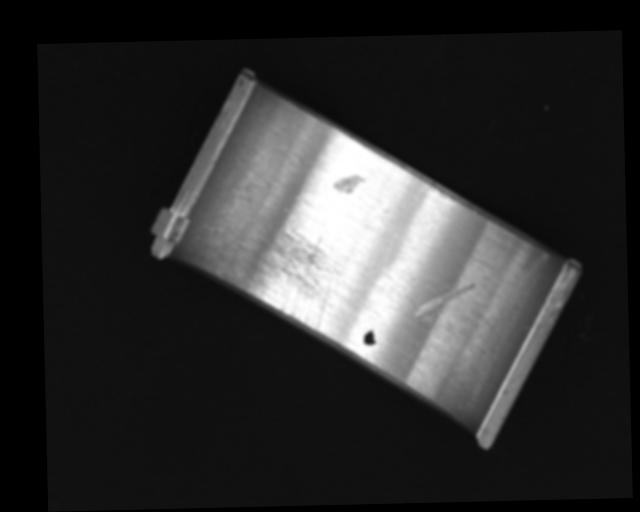blot: (362, 329, 376, 347)
bruise: (331, 175, 366, 195)
nick: (413, 283, 474, 316), (399, 289, 422, 366)
scratch: (224, 225, 347, 334)
